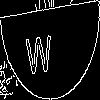W: (25, 25, 53, 76)
